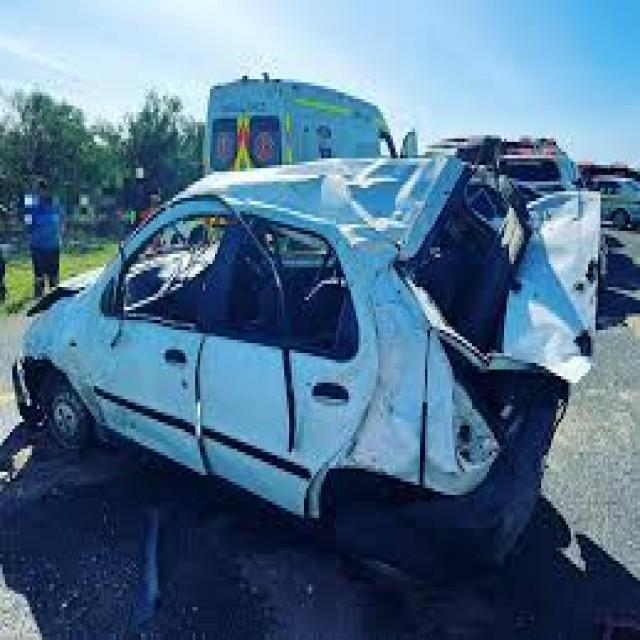Severe Damage: (357, 136, 605, 563)
